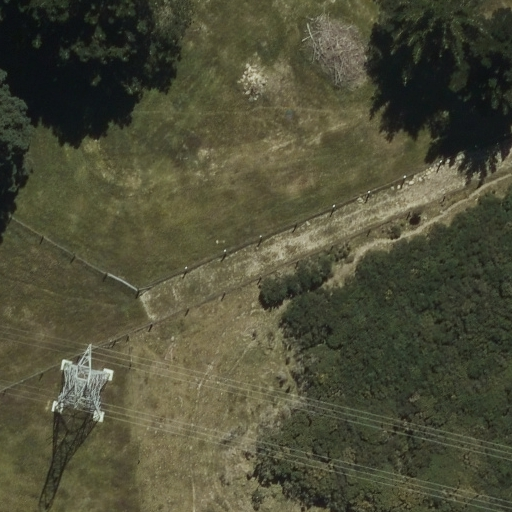TT: (48, 341, 117, 431)
